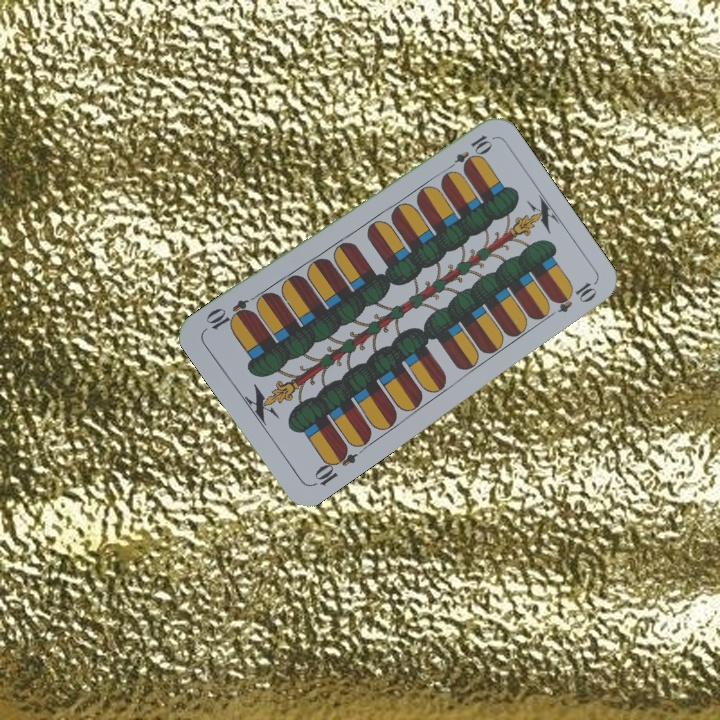E10: (308, 442, 360, 489), (441, 130, 494, 175)
